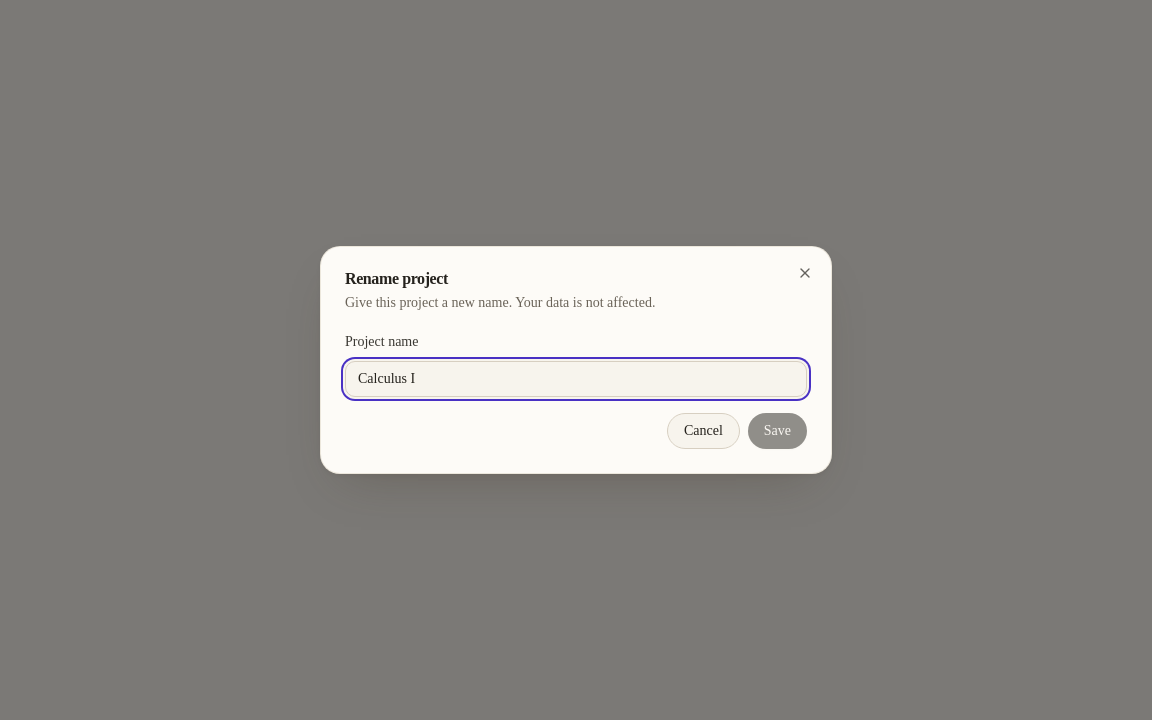
Test: RenameProjectDialog › shows an inline error instead of window.alert
Replace the text in the field labelled "Project name" with "Duplicate" at (576, 379), box [345,361,807,397]
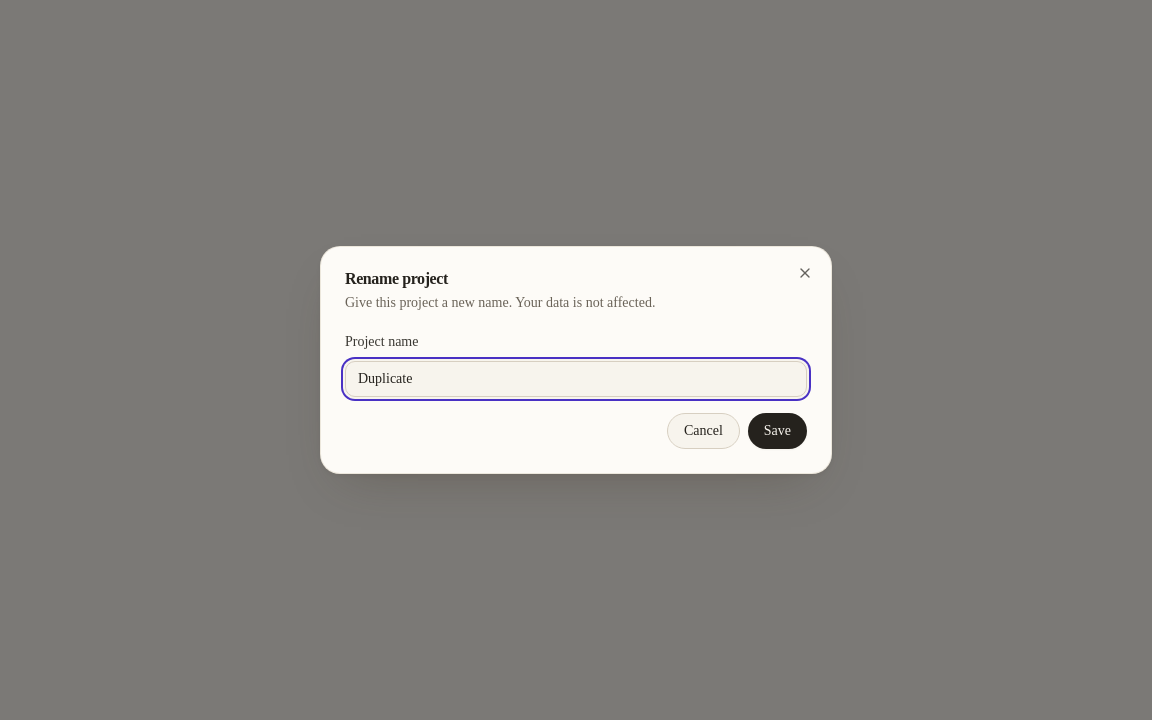
Click the button "Save".
click(777, 431)  # box [748,413,807,449]
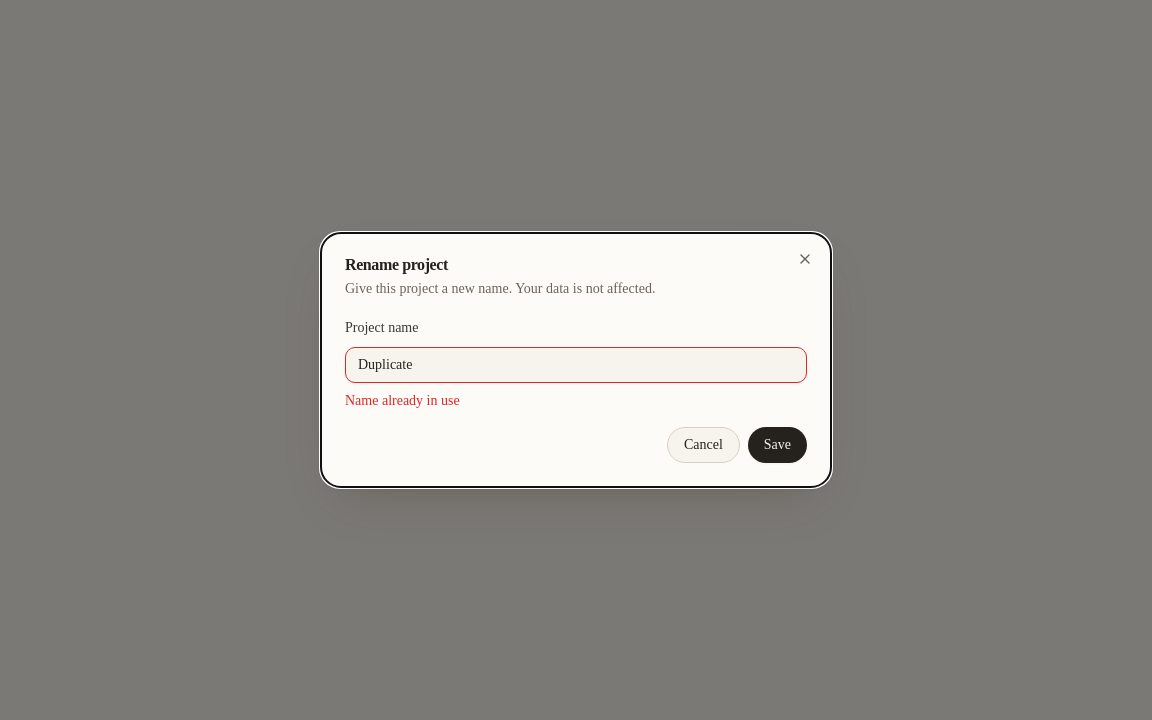
Check: the text "Name already in use" is shown, box [345,393,460,408]
